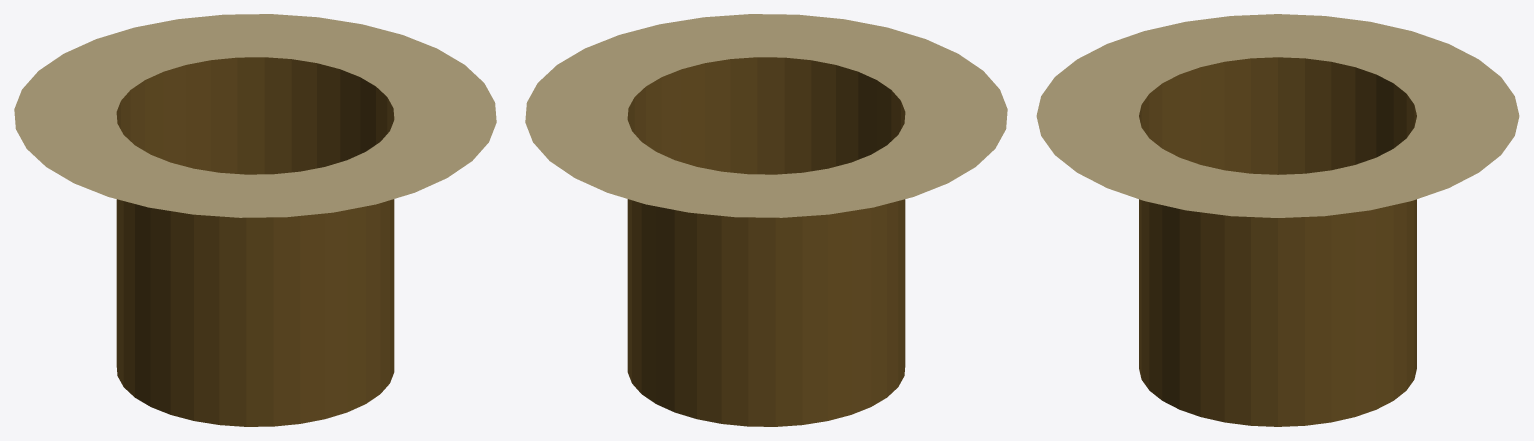
File: Hole.fbx
3 renders of one model, left to right at view 1: azimuth 30°, elevation 25°; view 2: azimuth 150°, elevation 25°; view 3: azimuth 270°, elevation 25°, orthographic.
Parts seen in each view (by area): view 1: Cylinder; view 2: Cylinder; view 3: Cylinder.
Part boxes in pixels (left/top/right/bottom): Cylinder: left=14, top=14, right=496, bottom=426; Cylinder: left=525, top=14, right=1007, bottom=426; Cylinder: left=1036, top=14, right=1519, bottom=426.
Size of the model in its own units: 347 by 200 by 347.
